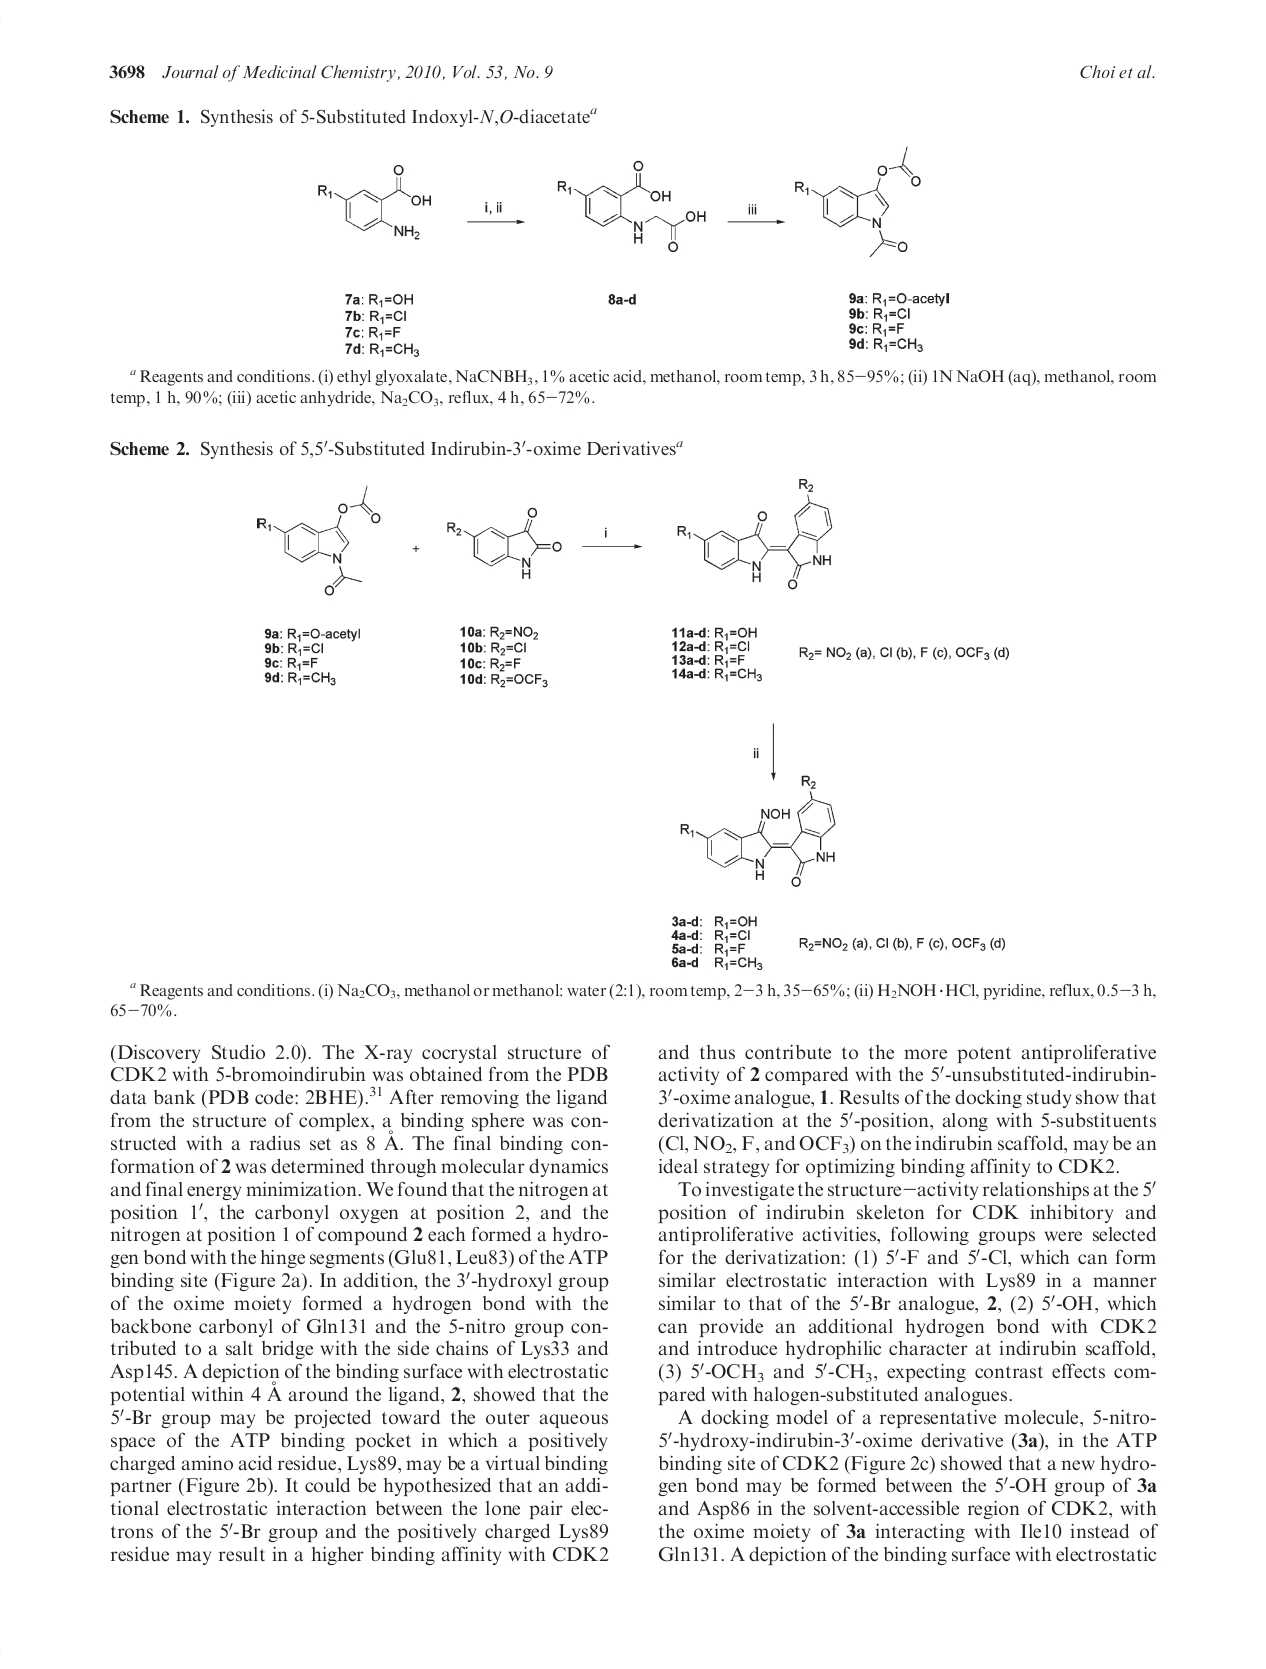exist_molecular: (680, 762, 840, 888), (668, 479, 840, 594), (789, 138, 930, 262), (549, 156, 714, 261), (254, 484, 390, 594), (306, 138, 438, 251), (440, 500, 564, 581)
